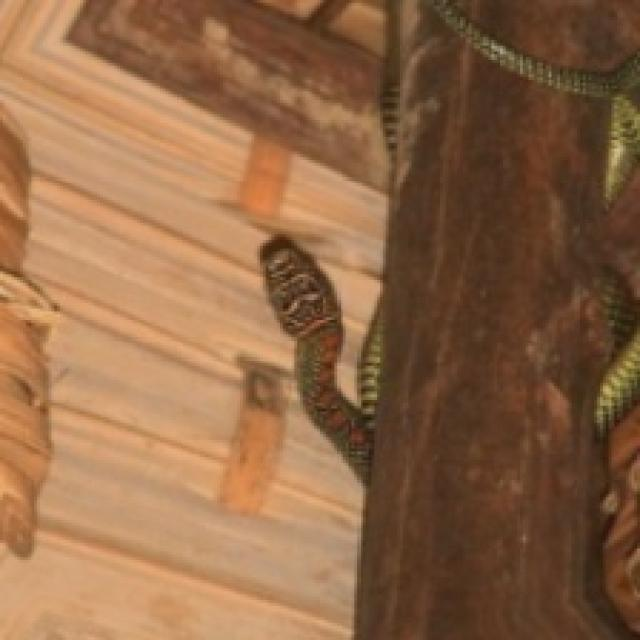paradise tree snake: (429, 0, 640, 201), (260, 235, 380, 482), (595, 269, 640, 437), (380, 0, 401, 181)
